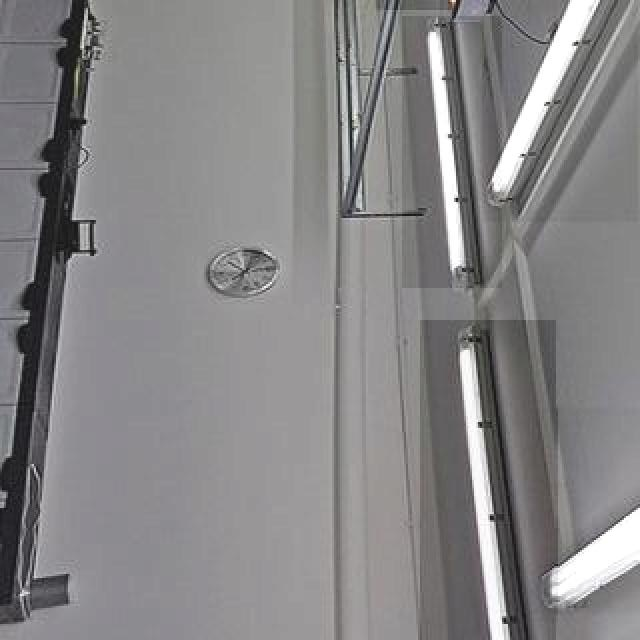fluorescent tube: (422, 314, 540, 640), (480, 0, 640, 208), (538, 342, 640, 630), (407, 13, 485, 311), (386, 0, 448, 6)
